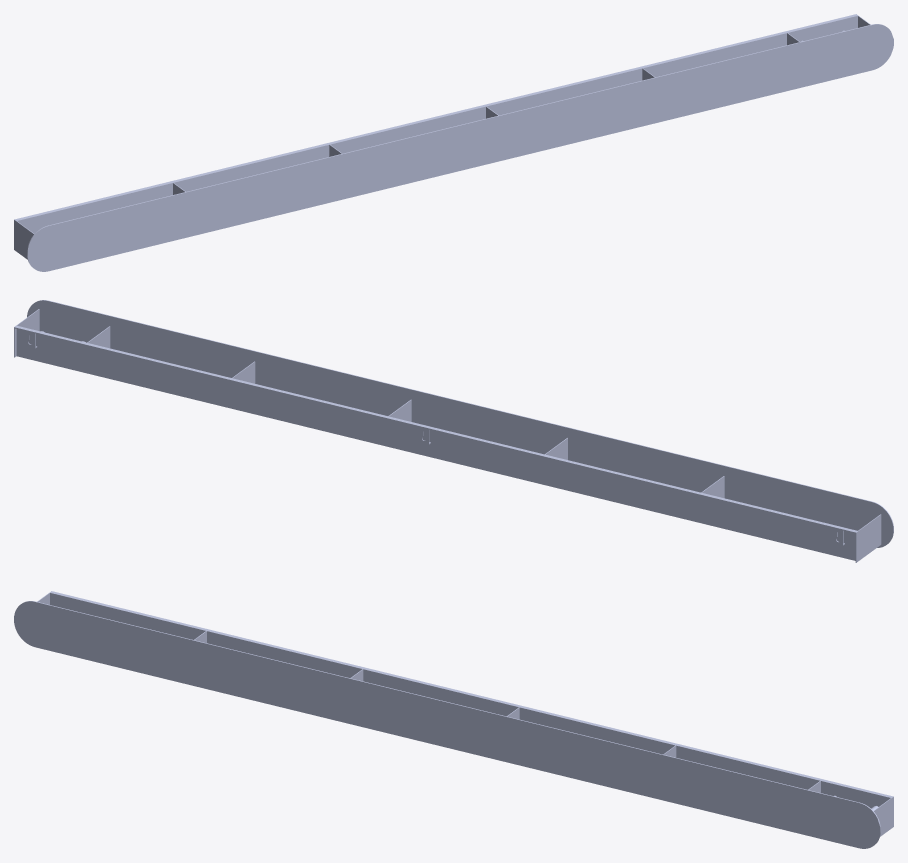
File: round-patron.1f2123fc98.glb
The picture shows the model from 3 angles, top to bottom: view 1: azimuth 30°, elevation 25°; view 2: azimuth 150°, elevation 25°; view 3: azimuth 330°, elevation 25°; orthographic projection.
Visible parts, largest first — view 1: NAUO1; view 2: NAUO1; view 3: NAUO1.
Part boxes in pixels (<box>): NAUO1: <box>14,14,893,271</box>; NAUO1: <box>14,300,893,562</box>; NAUO1: <box>14,591,893,848</box>.
Bounding box in the file's own units: 1.8 × 0.0901 × 0.0921.
